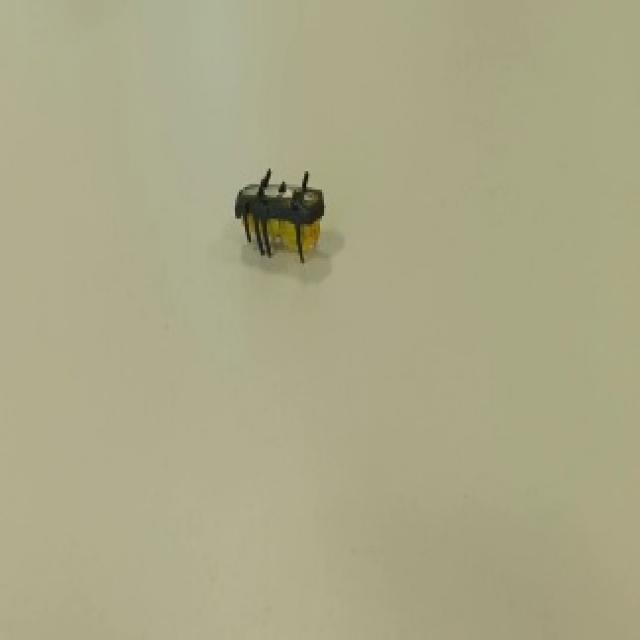6_NanoBug_GrisOscuro: (202, 141, 358, 285)
